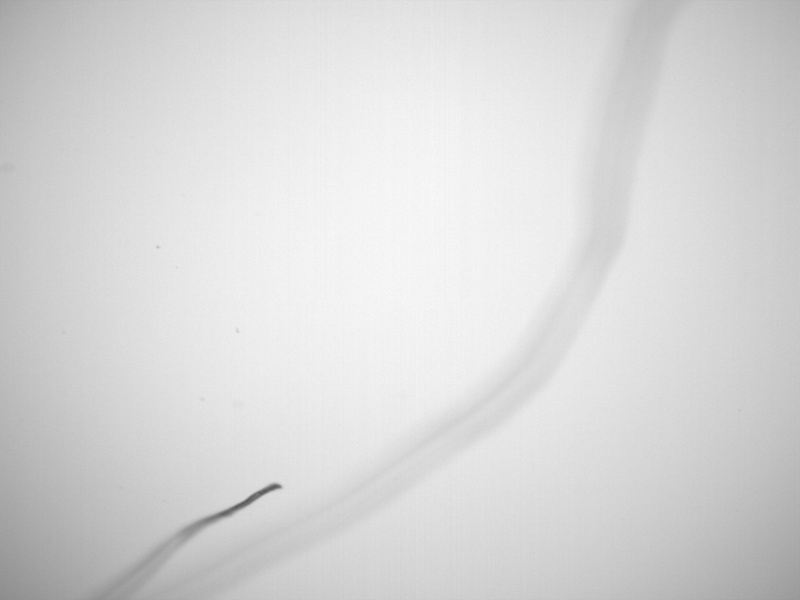fiber: (77, 1, 688, 600)
